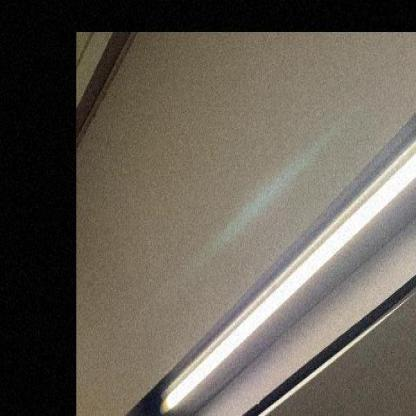light_on: (143, 86, 415, 415)
